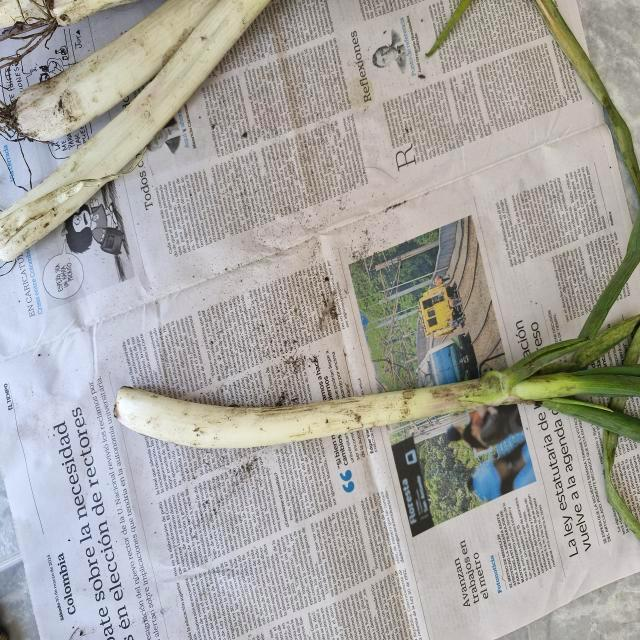green_onion: (110, 356, 640, 456)
